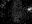person: (25, 7, 31, 12)
